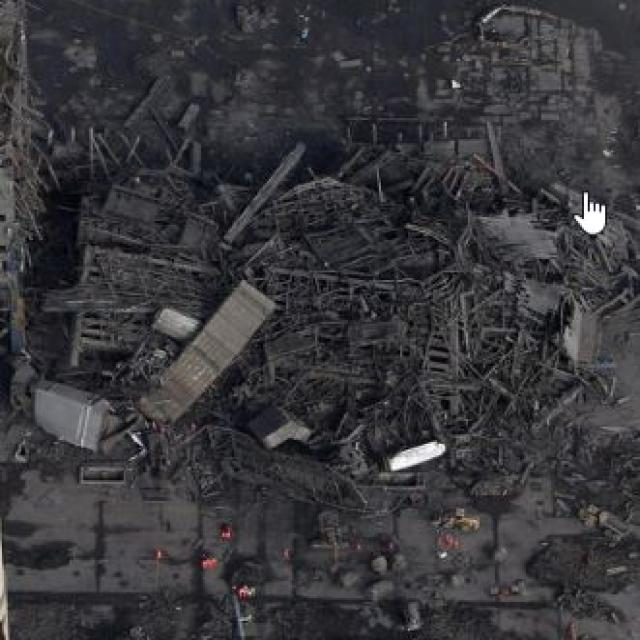collapsed_building: (31, 158, 628, 478)
